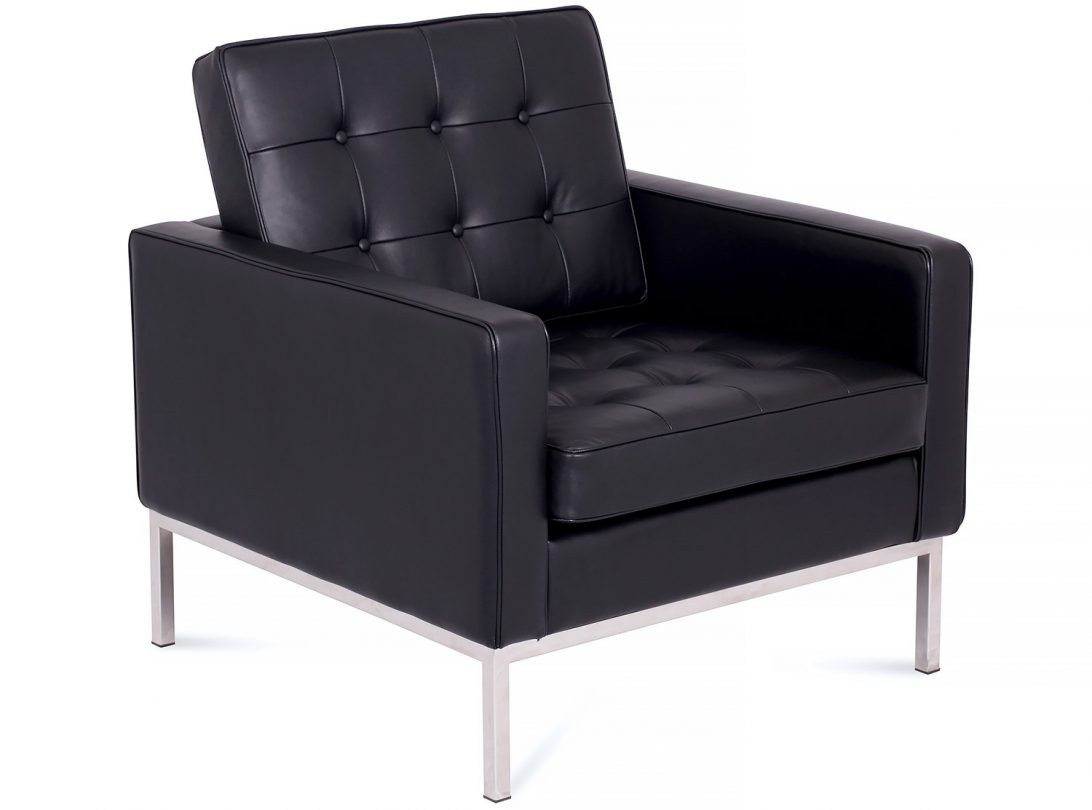chairs: (122, 7, 974, 801)
